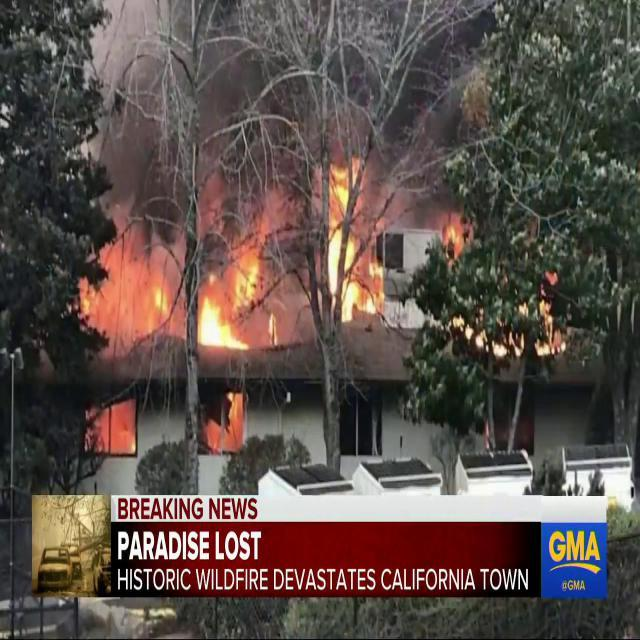Fire: (328, 158, 378, 324), (92, 244, 174, 338), (230, 200, 274, 308), (192, 287, 245, 352), (90, 404, 142, 462), (204, 394, 244, 456), (442, 210, 472, 252)
